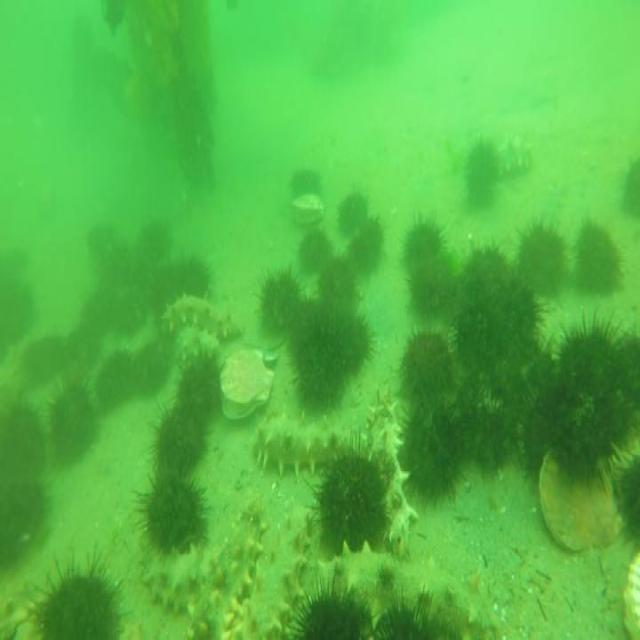echinus: (303, 428, 397, 563), (34, 550, 129, 640), (396, 390, 462, 515), (542, 365, 608, 488), (133, 458, 208, 556), (492, 327, 554, 441), (556, 308, 620, 417), (0, 467, 53, 578), (456, 382, 510, 479), (398, 326, 452, 420), (151, 395, 209, 482), (46, 373, 100, 465), (295, 577, 372, 640), (453, 299, 503, 395), (452, 240, 510, 318), (172, 344, 225, 424), (516, 216, 566, 298), (150, 250, 215, 313), (574, 212, 622, 294), (0, 393, 44, 478), (407, 240, 455, 316), (491, 276, 534, 358), (371, 589, 436, 640), (460, 134, 502, 210), (611, 448, 640, 551), (616, 319, 640, 441), (397, 212, 443, 272), (133, 329, 170, 398), (57, 319, 99, 379), (79, 284, 123, 340), (95, 344, 134, 404), (130, 220, 173, 272), (112, 286, 149, 343), (0, 273, 30, 343), (18, 327, 58, 379), (100, 242, 138, 286), (85, 213, 119, 259), (287, 160, 325, 199), (622, 150, 640, 220)
holothurian: (185, 498, 268, 640), (252, 403, 378, 477), (364, 382, 414, 558), (391, 561, 502, 640), (142, 542, 220, 616), (309, 539, 396, 604), (161, 289, 248, 343), (294, 326, 345, 412), (254, 262, 305, 346), (332, 308, 378, 379), (226, 592, 291, 640), (164, 319, 225, 370), (286, 294, 330, 357), (317, 253, 358, 314), (348, 215, 384, 280), (491, 134, 538, 182), (296, 224, 333, 282), (336, 186, 371, 242)
scallop: (538, 439, 620, 555), (215, 344, 278, 424), (619, 545, 640, 640), (290, 190, 327, 224)
